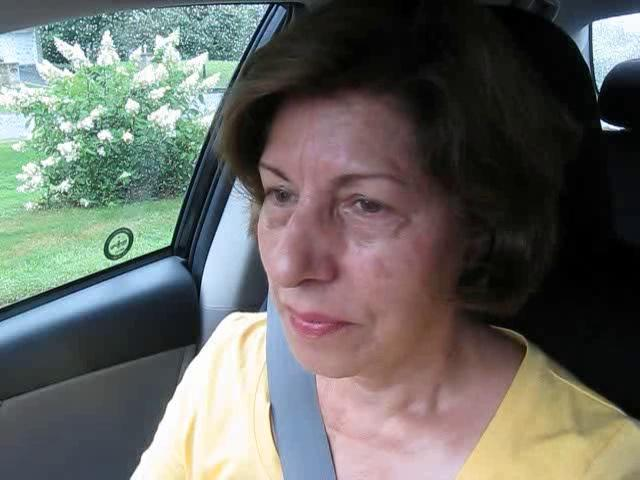no_yawn: (267, 292, 379, 358)
open_eyeL: (251, 174, 311, 216)
open_eyeR: (324, 181, 416, 233)
